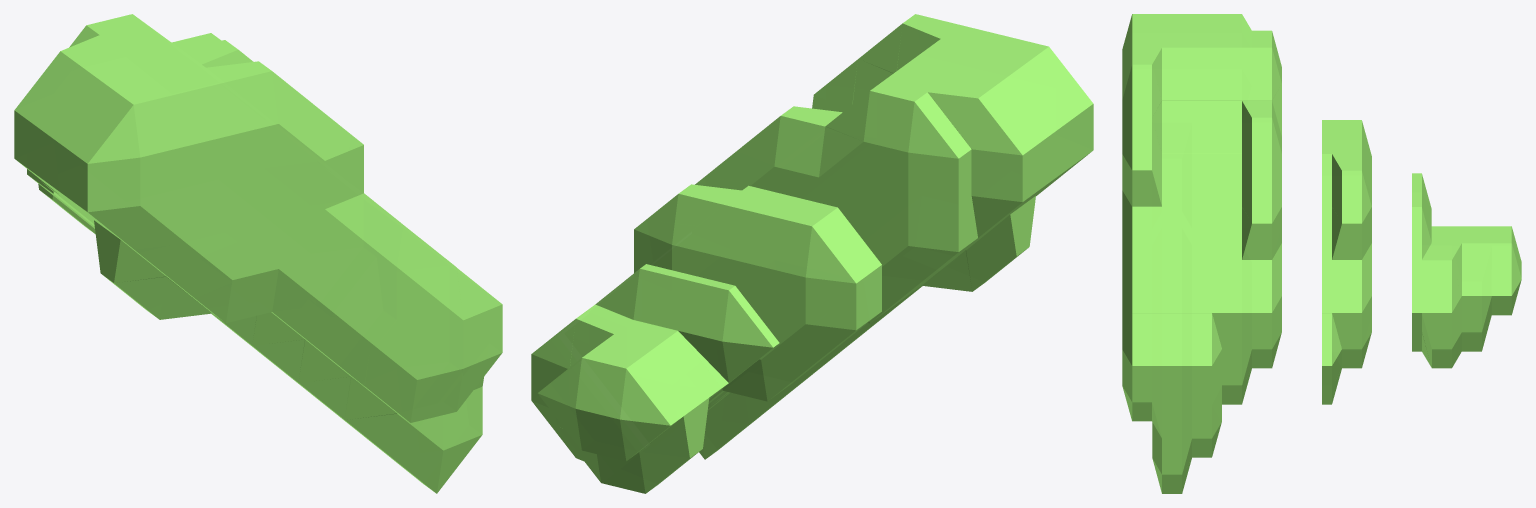
Rendered from SVV_BWM-DR07.gltf.
3 renders of one model, left to right at view 1: azimuth 30°, elevation 25°; view 2: azimuth 150°, elevation 25°; view 3: azimuth 270°, elevation 25°, orthographic. The views are drawn at different scales.
Visible parts, largest first — view 1: BWM-DR07; view 2: BWM-DR07; view 3: BWM-DR07.
Boxes of the visible parts, left/top/right/bottom form: BWM-DR07: left=14, top=14, right=502, bottom=493; BWM-DR07: left=531, top=14, right=1093, bottom=493; BWM-DR07: left=1122, top=14, right=1521, bottom=493.
Bounding box in the file's own units: 4604 × 5116 × 5121.
